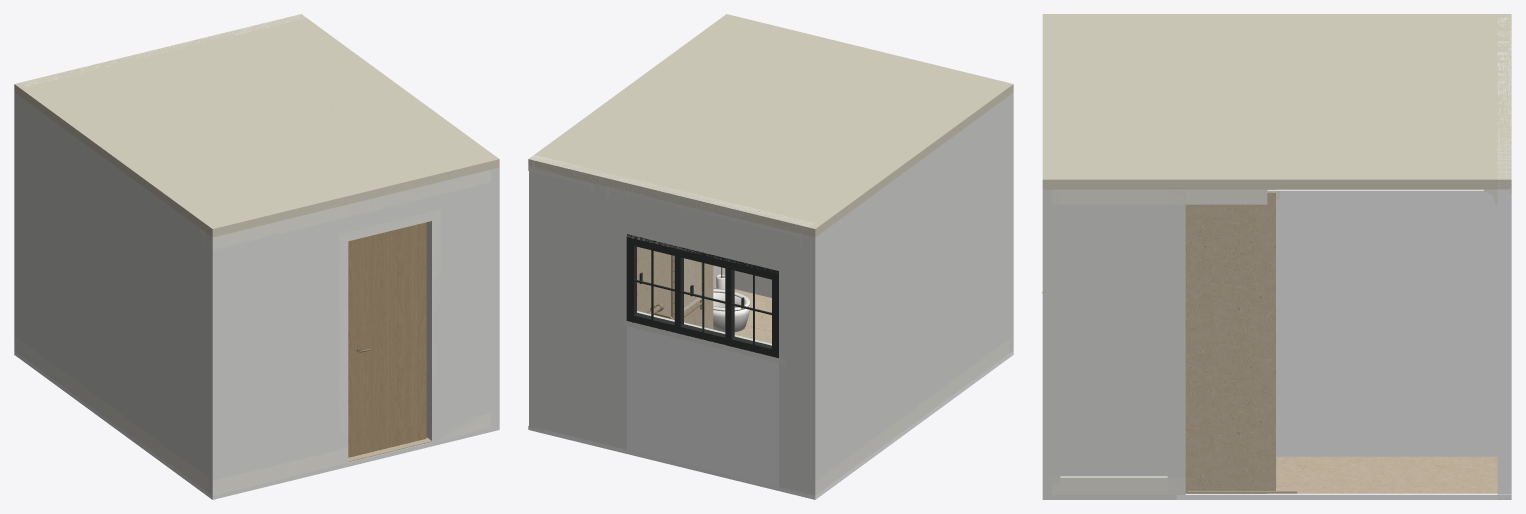
3 views of the same model, side by side, from view 1: azimuth 30°, elevation 25°; view 2: azimuth 150°, elevation 25°; view 3: azimuth 270°, elevation 25° (orthographic). The views are drawn at different scales.
Visible parts, largest first — view 1: Proposal revision | Bathroom bedroom 3 | end.001, Bathroom | ceiling.001, Proposal revision | Bathroom hall | pier 0.001, Familybath 01 | entrance door leaf.001, Proposal revision | Bathroom hall | end.001, Principal en suite | ceiling.001, Landing continuous ceiling.001, Trim comparison | Bathroom hall opening 1 side -1 mitred cas, Proposal revision | Bedroom 3 hall door | end.001, Circulation detail | Cove Bathroom hall -1.001, Bedroom 3 | ceiling.001, Bathroom bedroom 3 | skirting end-1.001 (+6 smaller); view 2: Proposal revision | Bathroom bedroom 3 | end.001, Bathroom | ceiling.001, Proposal revision | Bathroom balcony | below 0.001, Proposal revision | En suite balcony | pier 0.001, Principal en suite | ceiling.001, Proposal revision | Bathroom balcony | pier 0.001, Proposal revision | Bathroom balcony | end.001, Proposal revision | Bathroom balcony | lintel 0.001, Bedroom 3 | ceiling.001, Familybath 01 | east upper limestone wall.001, Bathroom bedroom 3 | skirting end-1.001, Proposal revision | Bathroom en suite | end.001 (+17 smaller); view 3: Bathroom | ceiling.001, Proposal revision | Bathroom en suite | end.001, Proposal revision | Bathroom east | end.001, Guestbath 01 | shower west wall.001, Principal en suite | ceiling.001, Guestbath 01 | limestone floor.001, Proposal revision | Airing cupboard hall | west jamb.001, Proposal revision | Principal en suite south | end.001, Proposal revision | En suite balcony | pier 0.001, Landing continuous ceiling.001, Circulation detail | Cove Bathroom east 1.001, Guestbath 01 | retained skirting outside ensuite Bathroom ea (+5 smaller).
Boxes of the visible parts, x1,y1,x2,y2 form: Proposal revision | Bathroom bedroom 3 | end.001: (14, 92, 208, 492); Bathroom | ceiling.001: (21, 31, 486, 224); Proposal revision | Bathroom hall | pier 0.001: (219, 207, 348, 485); Familybath 01 | entrance door leaf.001: (348, 222, 426, 457); Proposal revision | Bathroom hall | end.001: (426, 170, 490, 441); Principal en suite | ceiling.001: (231, 14, 442, 119); Landing continuous ceiling.001: (209, 117, 499, 237); Trim comparison | Bathroom hall opening 1 side -1 mitred cas: (338, 209, 441, 448); Proposal revision | Bedroom 3 hall door | end.001: (205, 232, 219, 495); Circulation detail | Cove Bathroom hall -1.001: (219, 169, 490, 248); Bedroom 3 | ceiling.001: (14, 82, 214, 234); Bathroom bedroom 3 | skirting end-1.001: (14, 336, 208, 492); Proposal revision | Bathroom bedroom 3 | end.001: (802, 95, 1009, 495); Bathroom | ceiling.001: (599, 19, 1002, 235); Proposal revision | Bathroom balcony | below 0.001: (626, 322, 778, 486); Proposal revision | En suite balcony | pier 0.001: (529, 169, 599, 441); Principal en suite | ceiling.001: (528, 55, 701, 184); Proposal revision | Bathroom balcony | pier 0.001: (779, 229, 808, 493); Proposal revision | Bathroom balcony | end.001: (599, 185, 626, 449); Proposal revision | Bathroom balcony | lintel 0.001: (626, 192, 778, 271); Bedroom 3 | ceiling.001: (808, 85, 1009, 237); Familybath 01 | east upper limestone wall.001: (637, 247, 713, 329); Bathroom bedroom 3 | skirting end-1.001: (815, 339, 1009, 495); Proposal revision | Bathroom en suite | end.001: (592, 183, 605, 444); Bathroom | ceiling.001: (1051, 17, 1511, 174); Proposal revision | Bathroom en suite | end.001: (1276, 191, 1497, 456); Proposal revision | Bathroom east | end.001: (1060, 204, 1266, 493); Guestbath 01 | shower west wall.001: (1186, 192, 1275, 492); Principal en suite | ceiling.001: (1176, 138, 1511, 189); Guestbath 01 | limestone floor.001: (1186, 456, 1497, 493); Proposal revision | Airing cupboard hall | west jamb.001: (1042, 189, 1060, 494); Proposal revision | Principal en suite south | end.001: (1167, 189, 1185, 494); Proposal revision | En suite balcony | pier 0.001: (1497, 189, 1511, 494); Landing continuous ceiling.001: (1042, 14, 1176, 189); Circulation detail | Cove Bathroom east 1.001: (1051, 189, 1267, 204); Guestbath 01 | retained skirting outside ensuite Bathroom ea: (1051, 476, 1185, 494).
Bounding box in the file's own units: 2.85 × 2.57 × 3.41.
21 materials, 4 textured.
